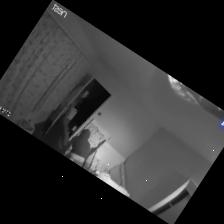person: (61, 129, 89, 165)
